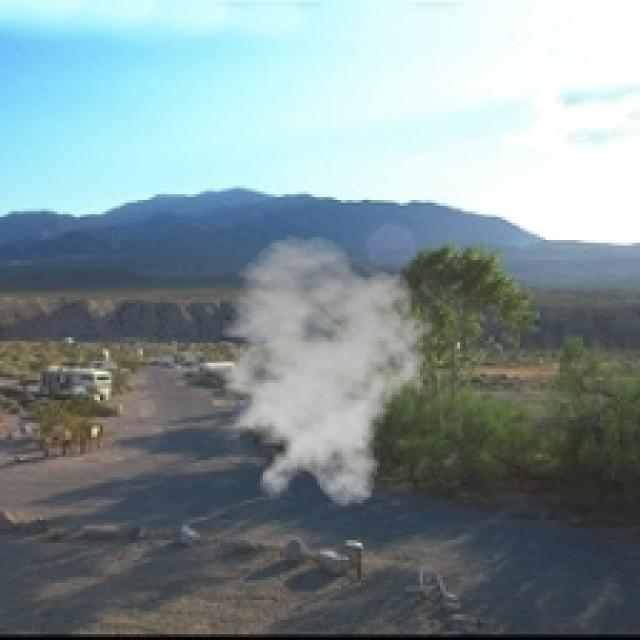Smoke: (194, 234, 440, 509)
